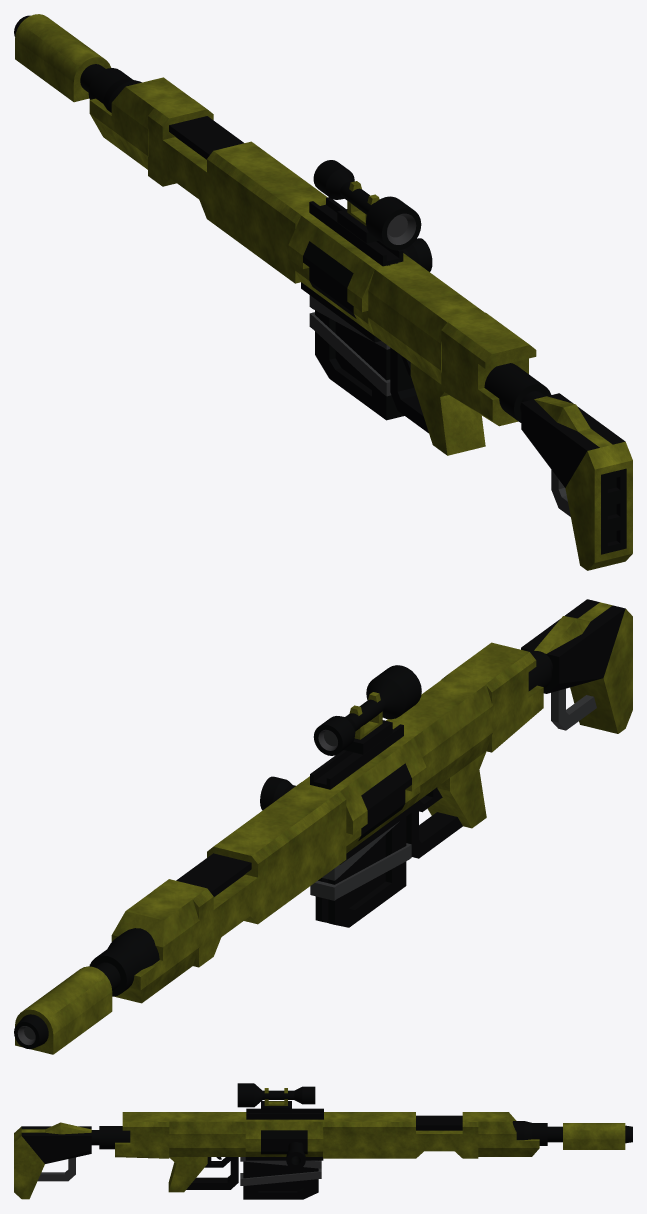
Rendered from sniper1.glb.
The picture shows the model from 3 angles, top to bottom: view 1: azimuth 30°, elevation 25°; view 2: azimuth 150°, elevation 25°; view 3: azimuth 270°, elevation 25°; orthographic projection. The views are drawn at different scales.
Parts seen in each view (by area): view 1: mediumBlaster_handleGuard, stock_assault, blaster_barrel, blaster_center, blaster_centerDetail, largeBlaster_centerDetail, mag, mediumBlaster_barrelLarge, scope_small, scope, detailRail; view 2: mediumBlaster_handleGuard, stock_assault, blaster_center, mediumBlaster_barrelLarge, blaster_centerDetail, largeBlaster_centerDetail, mag, blaster_barrel, scope_small, scope, detailRail, attachment_barrelEnd; view 3: mediumBlaster_handleGuard, stock_assault, blaster_center, blaster_centerDetail, largeBlaster_centerDetail, mag, blaster_barrel, mediumBlaster_barrelLarge, scope_small, scope, detailRail, attachment_barrelEnd.
Boxes of the visible parts, x1,y1,x2,y2 form: mediumBlaster_handleGuard: (367,259,485,455); stock_assault: (521,393,632,570); blaster_barrel: (441,312,551,426); blaster_center: (221,152,327,283); blaster_centerDetail: (148,98,265,229); largeBlaster_centerDetail: (288,213,412,342); mag: (309,295,404,420); mediumBlaster_barrelLarge: (87,68,192,169); scope_small: (14,14,111,102); scope: (313,160,421,250); detailRail: (309,197,403,266); mediumBlaster_handleGuard: (386,675,493,858); stock_assault: (521,599,632,733); blaster_center: (228,782,346,913); mediumBlaster_barrelLarge: (89,890,199,1003); blaster_centerDetail: (154,836,272,967); largeBlaster_centerDetail: (302,736,426,864); mag: (310,817,411,927); blaster_barrel: (441,642,552,752); scope_small: (14,966,113,1054); scope: (313,665,421,755); detailRail: (310,724,403,789); attachment_barrelEnd: (260,776,295,810); mediumBlaster_handleGuard: (168,1112,246,1192); stock_assault: (14,1122,91,1199); blaster_center: (323,1112,400,1158); blaster_centerDetail: (400,1112,478,1158); largeBlaster_centerDetail: (245,1119,323,1160); mag: (240,1157,321,1199); blaster_barrel: (91,1112,169,1158); mediumBlaster_barrelLarge: (477,1112,555,1156); scope_small: (555,1123,632,1149); scope: (237,1083,315,1113); detailRail: (246,1108,323,1119); attachment_barrelEnd: (286,1142,305,1169).
Bounding box in the file's own units: 0.857 × 1.6 × 7.97.
Materials: 33 (18 with a texture image).
